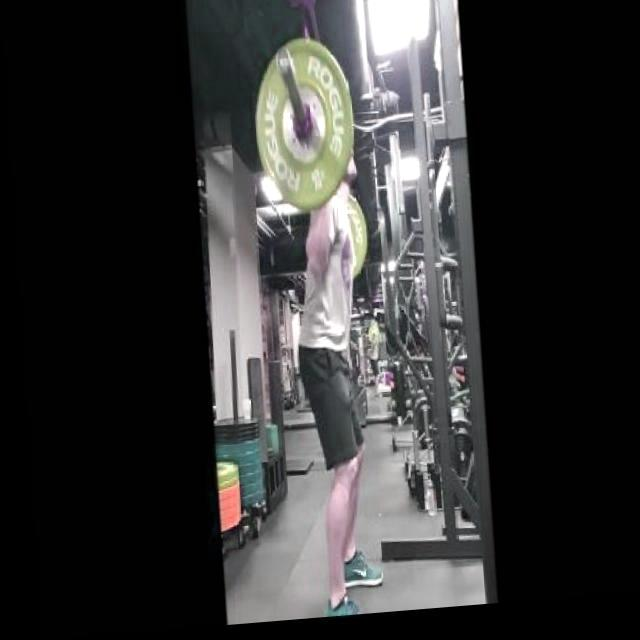barbell: (238, 35, 365, 225)
